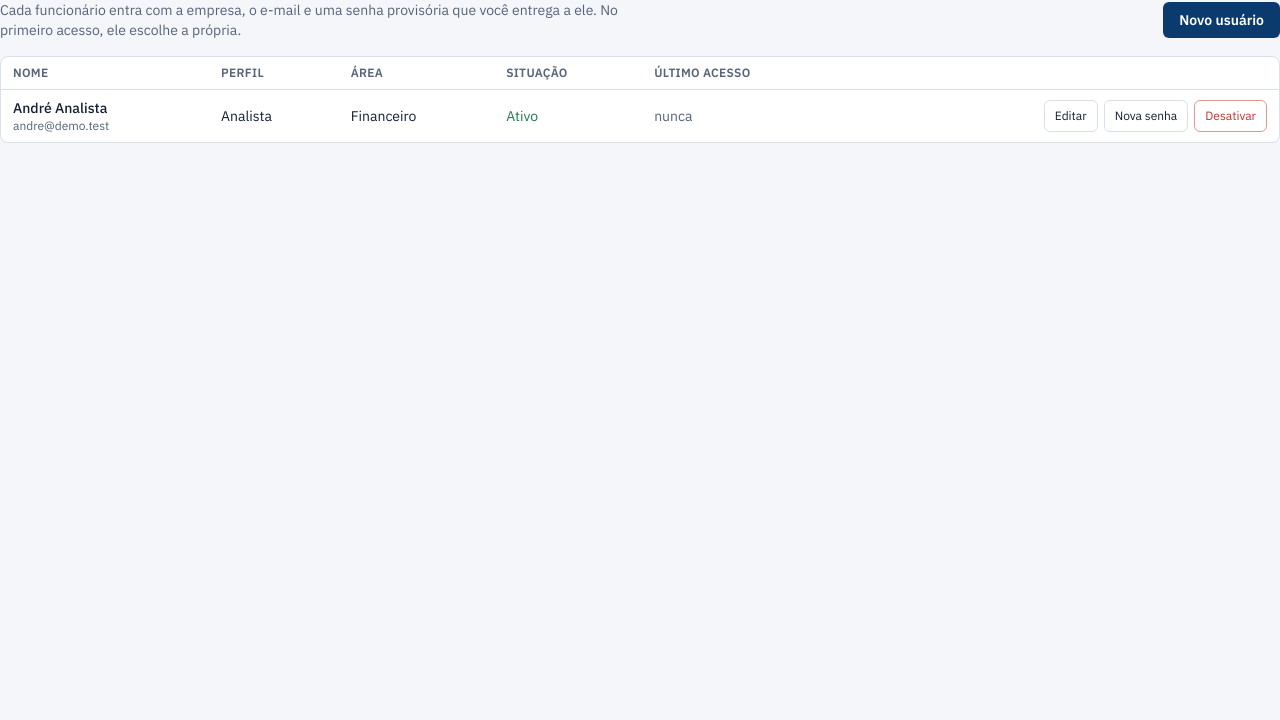
Usuários › edita, desativa e gera nova senha
The image size is (1280, 720).
Click the button with aria-label "Editar André Analista".
click(1071, 116)  # box [1044, 100, 1098, 132]
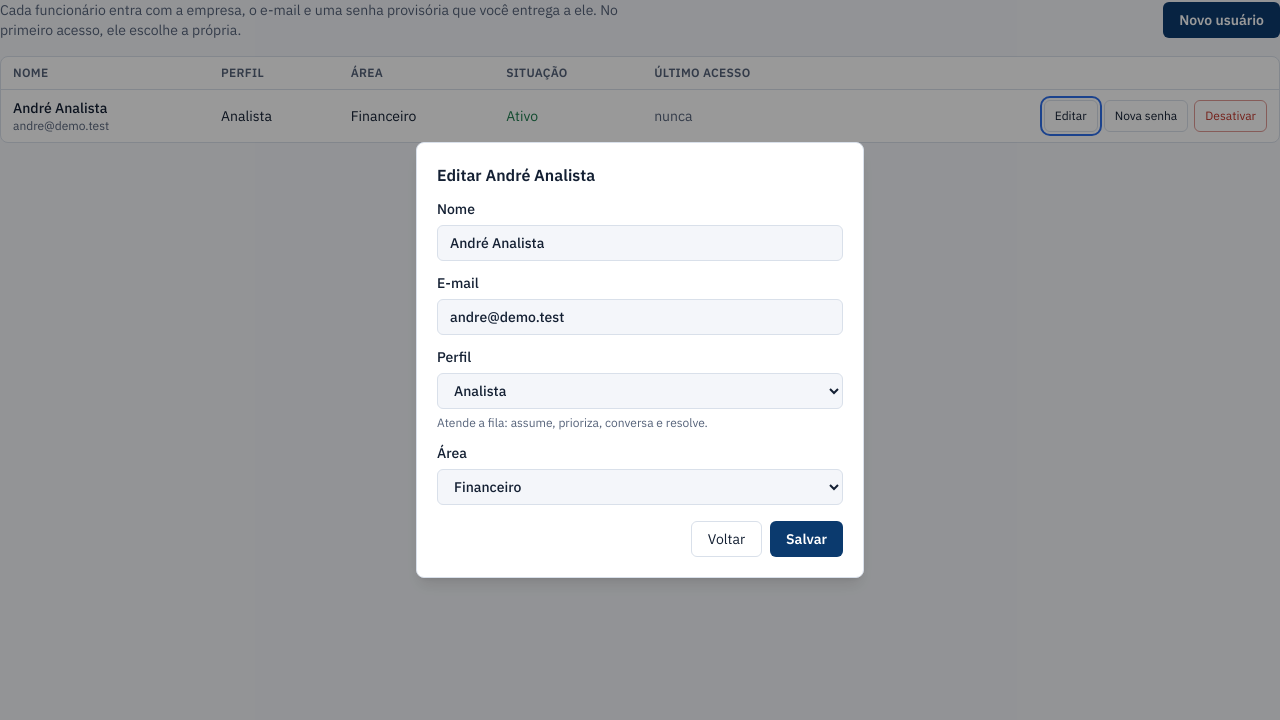
Replace the text in the field labelled "Nome" with "André Silva" at (640, 243), box [437, 225, 843, 261]
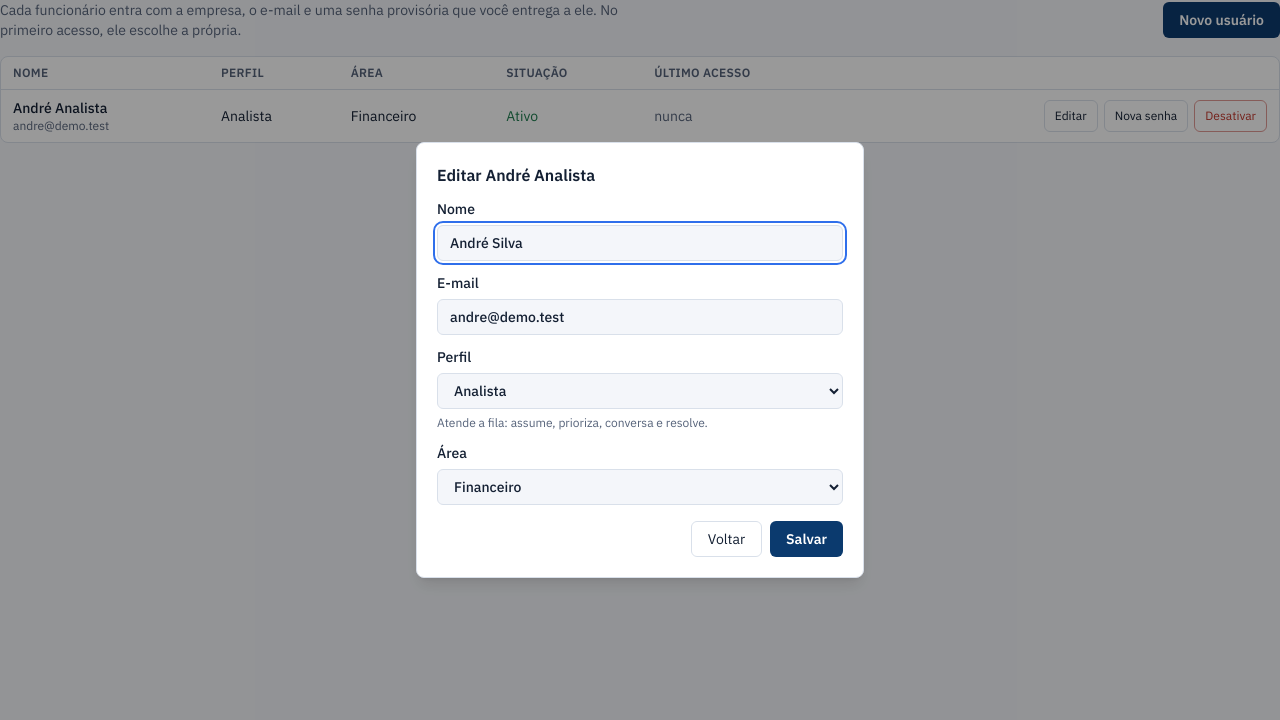
Click the button "Salvar".
click(807, 539)  # box [770, 521, 843, 557]
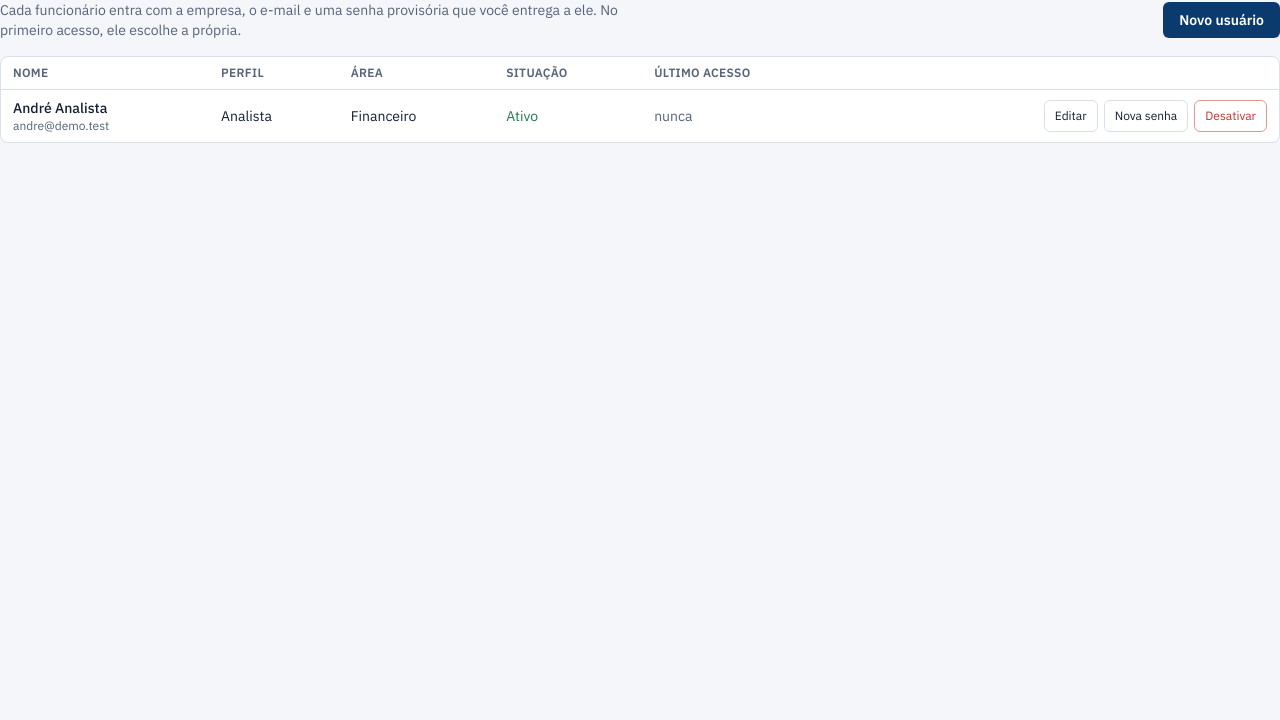
Click the button with aria-label "Desativar André Analista".
click(1231, 116)  # box [1194, 100, 1267, 132]
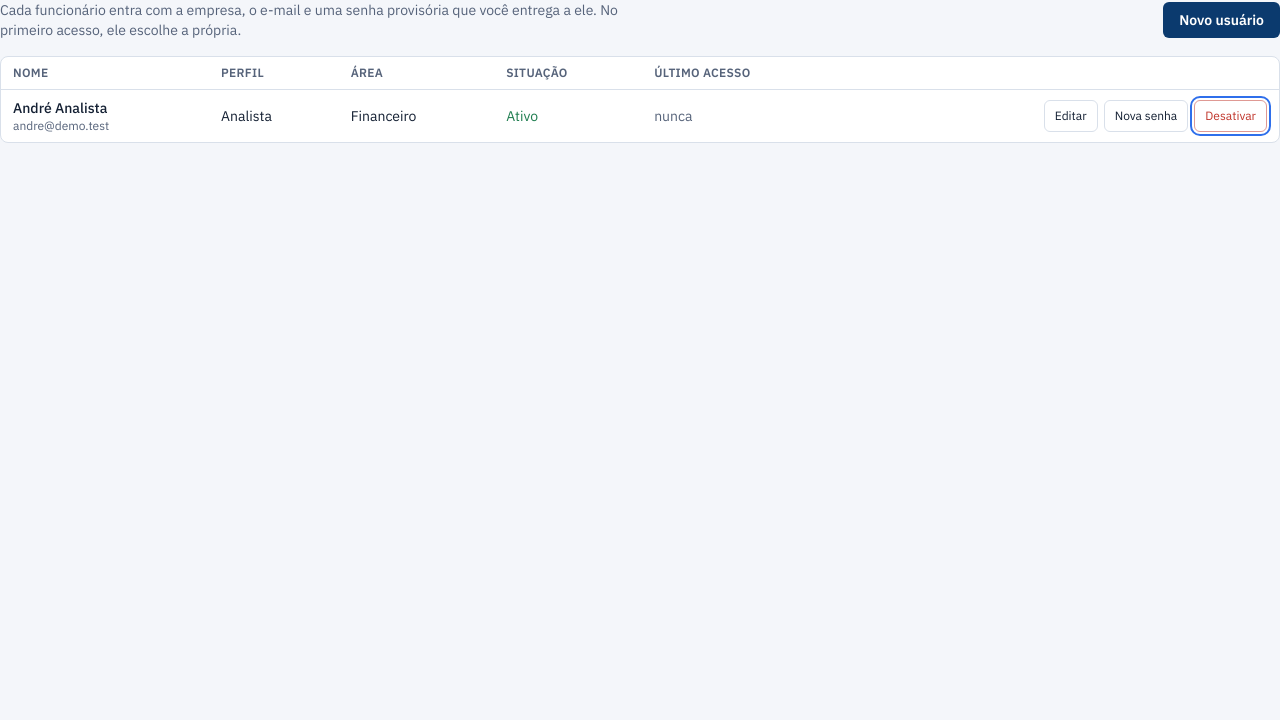
Click the button with aria-label "Gerar nova senha para André Analista".
click(1146, 116)  # box [1104, 100, 1188, 132]
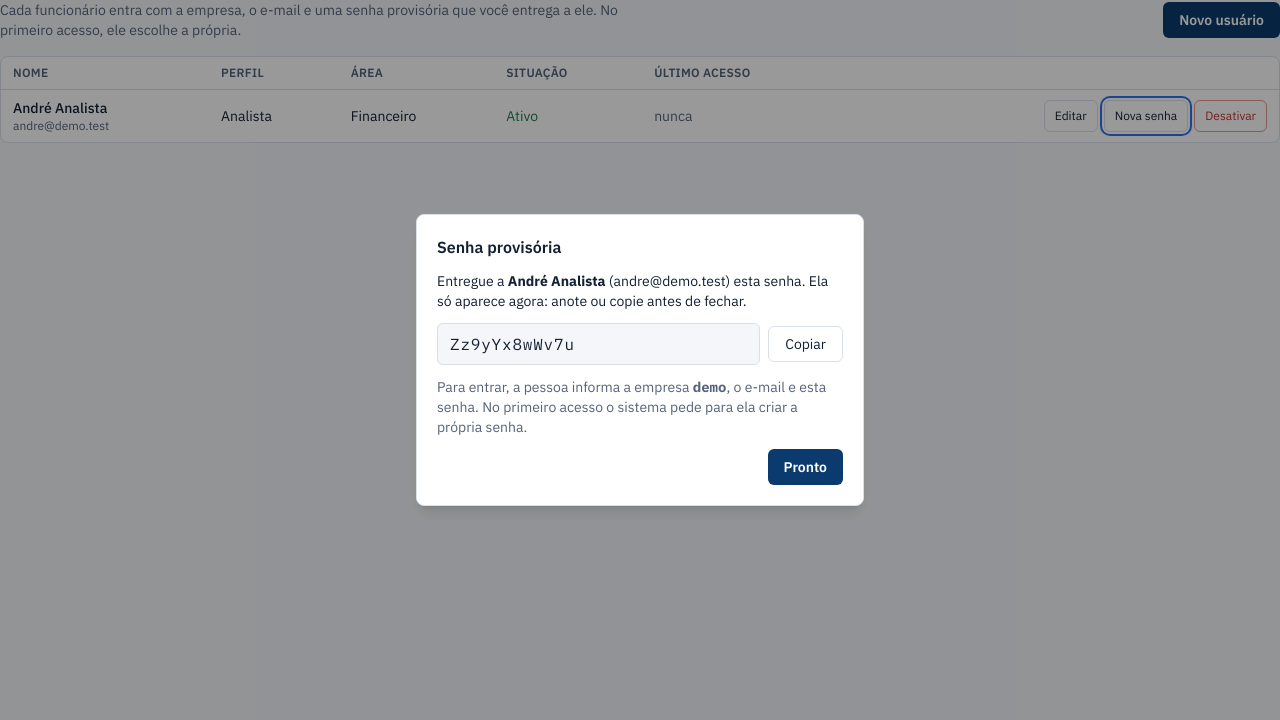
Now the text with test id "senha-provisoria" reads "Zz9yYx8wWv7u", box [450, 334, 575, 354]
